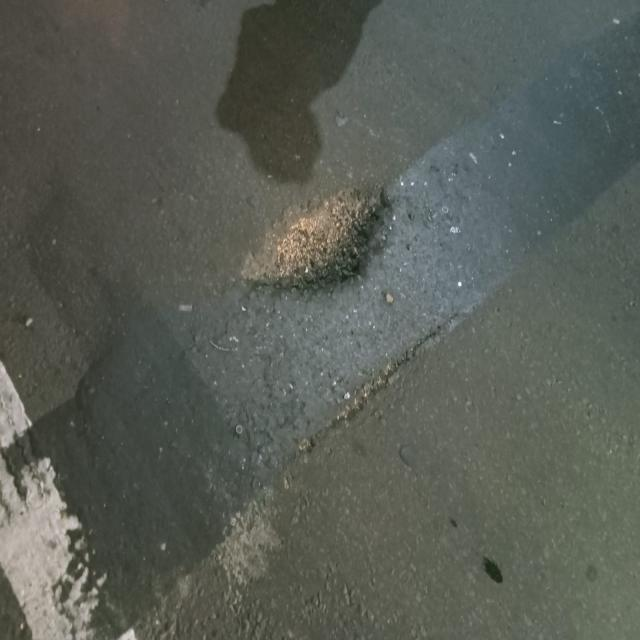Buraco: (231, 182, 396, 300)
